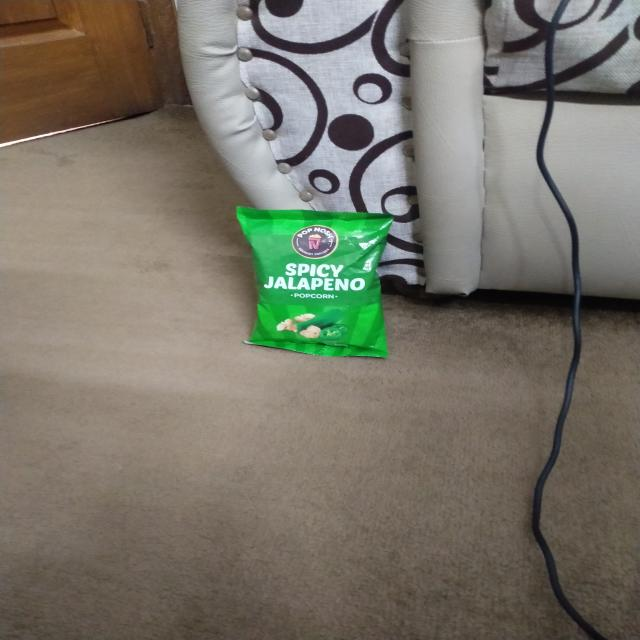Plastic: (226, 200, 400, 362)
